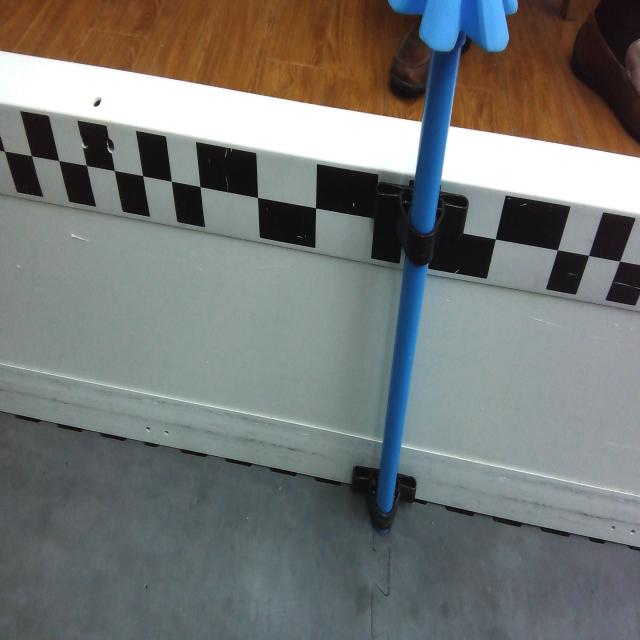zblue-Stake-Head: (389, 0, 519, 56)
